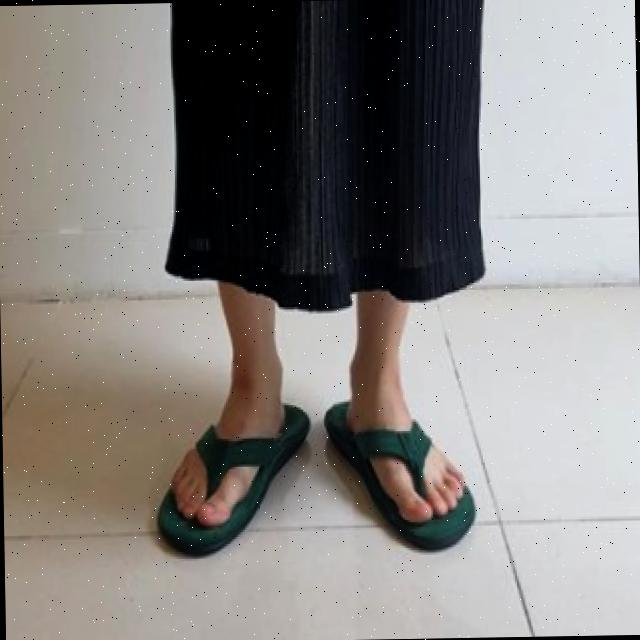no-boots: (146, 377, 316, 612), (316, 364, 474, 591)
